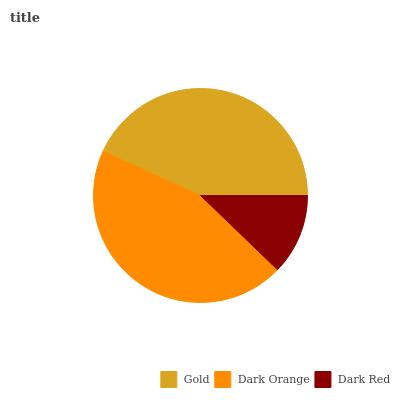legend: (150, 362, 394, 397)
sector: (90, 151, 279, 304), (100, 86, 308, 194), (199, 194, 308, 271)
